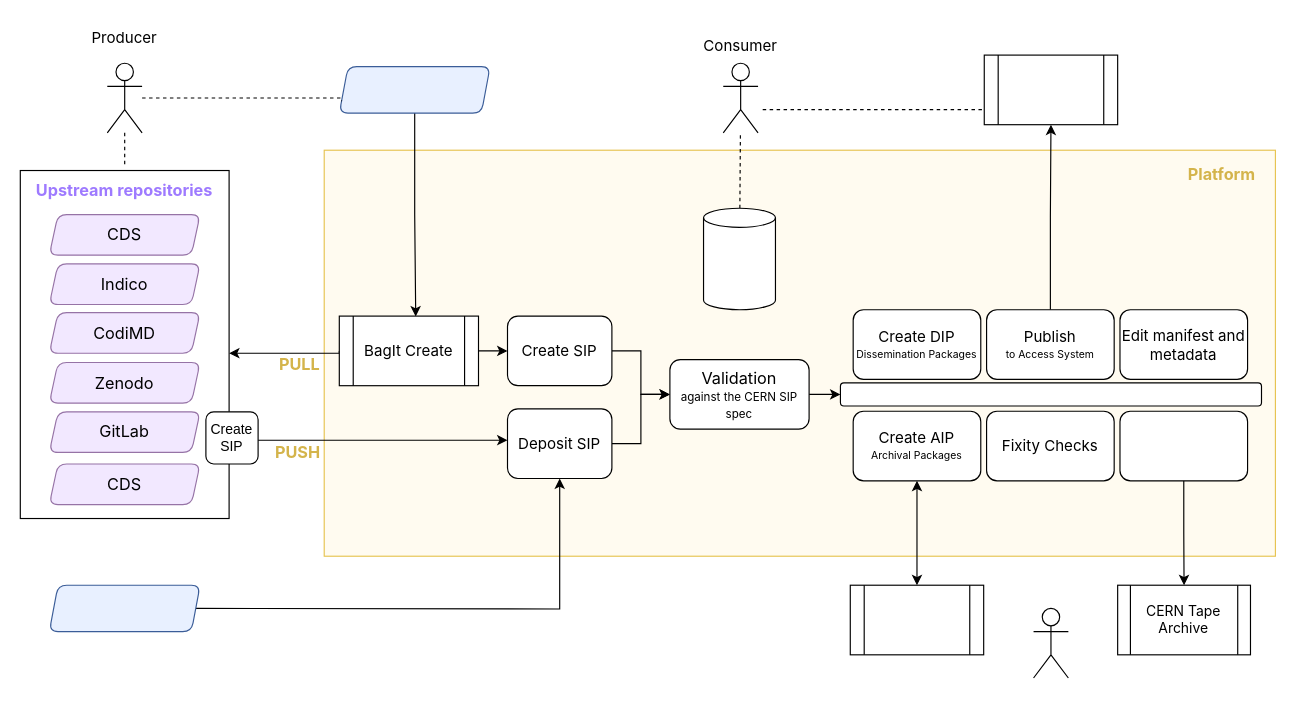
Some shapes in this 1296 by 722 pixel diagram are drawn without their labels. Each missing label, with the centre of its shape:
"Archivematica" goes at [916,619].
"Local Folders" goes at [414,89].
"Local SIP" goes at [124,608].
"Management" goes at [1050,642].
"Preservation actions" goes at [1050,394].
"Push to Tape" goes at [1183,445].
"Registry based on InvenioRDM" goes at [1050,89].
"SIP/AIP Store" goes at [738,258].
